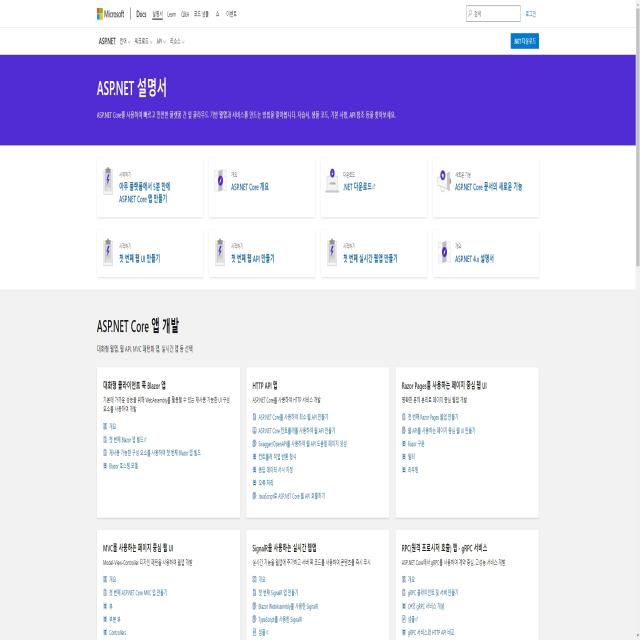menu-bar: (133, 3, 240, 23)
search: (464, 1, 524, 25)
tab-bar: (97, 30, 187, 51)
